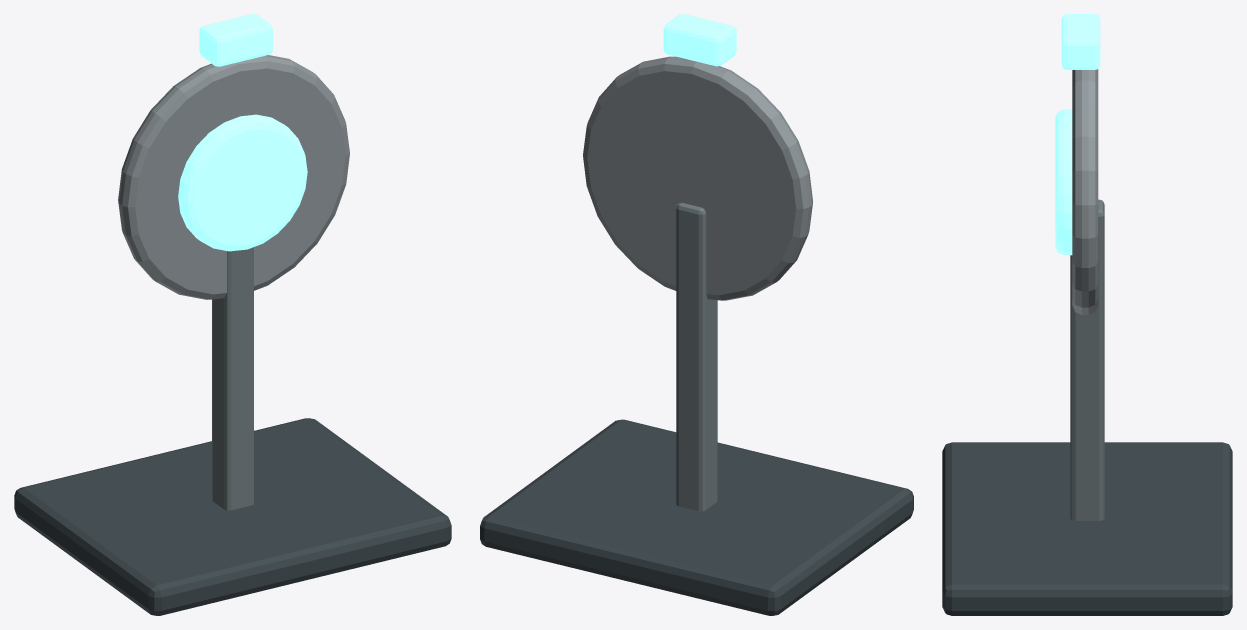
Rendered from TrainingTarget_A.fbx.
The picture shows the model from 3 angles, left to right: view 1: azimuth 30°, elevation 25°; view 2: azimuth 150°, elevation 25°; view 3: azimuth 270°, elevation 25°; orthographic projection. The views are drawn at different scales.
Parts seen in each view (by area): view 1: Target Foot, Target Outer Plate, Target Inner Plate, Target Post, Target Sensor; view 2: Target Foot, Target Outer Plate, Target Post, Target Sensor; view 3: Target Foot, Target Post, Target Outer Plate, Target Inner Plate, Target Sensor.
Boxes of the visible parts, box(x1,y1,x2,y2) form: Target Foot: box(14, 418, 451, 615); Target Outer Plate: box(118, 55, 349, 299); Target Inner Plate: box(178, 114, 307, 251); Target Post: box(212, 247, 253, 510); Target Sensor: box(199, 14, 272, 66); Target Foot: box(480, 419, 913, 615); Target Outer Plate: box(583, 56, 812, 300); Target Post: box(676, 202, 717, 511); Target Sensor: box(663, 14, 736, 66); Target Foot: box(942, 442, 1232, 615); Target Post: box(1070, 199, 1104, 520); Target Outer Plate: box(1072, 69, 1098, 314); Target Inner Plate: box(1055, 109, 1072, 255); Target Sensor: box(1061, 14, 1100, 69).
Bounding box in the file's own units: 1.65 × 2.66 × 1.35.
